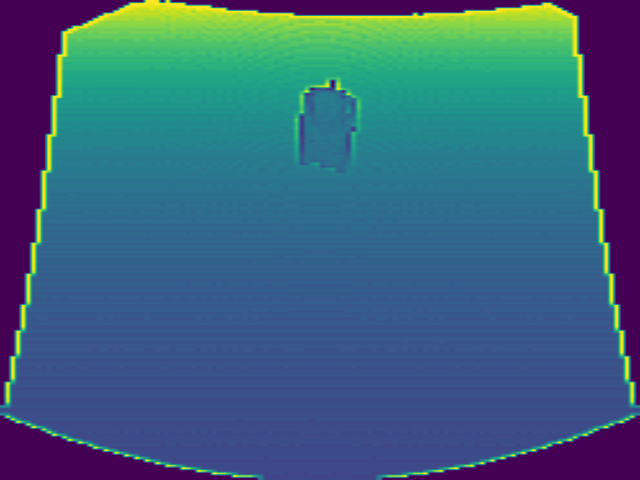car_0027: (291, 78, 367, 175)
